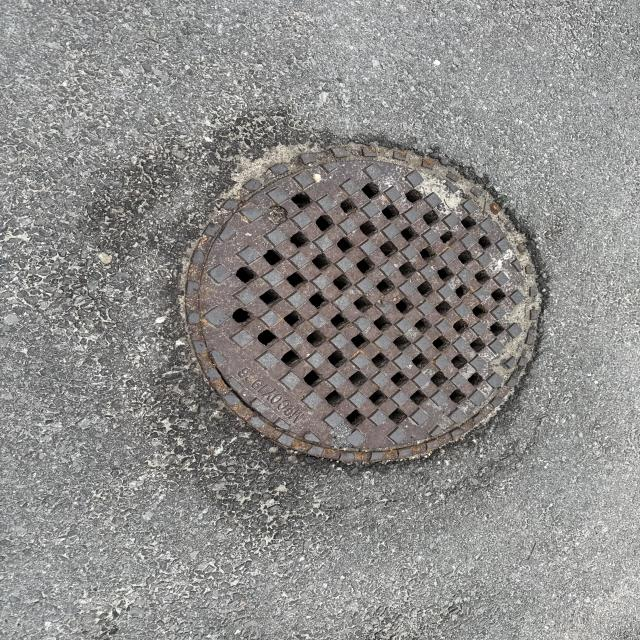Manhole: (189, 125, 539, 454)
